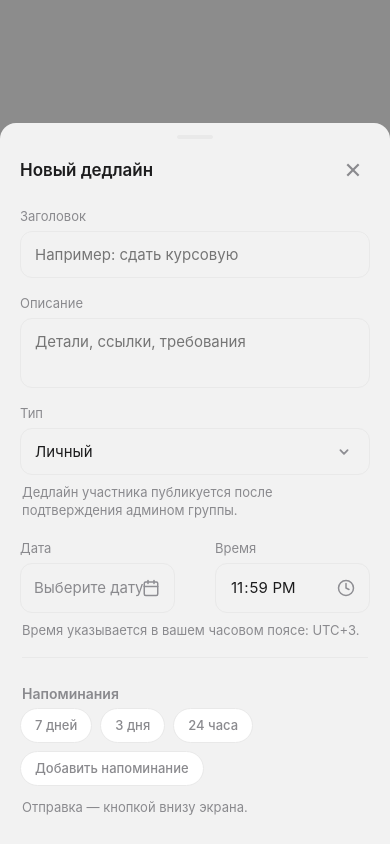
Test case: DeadlineSheet: группы и пресеты › снятие всех пресетов у группового дедлайна даёт ошибку про напоминания
Select "Групповой · М8О-401Б-23" in the dropdown with test id "field-group". click: (195, 452)
box: [20,428,370,476]
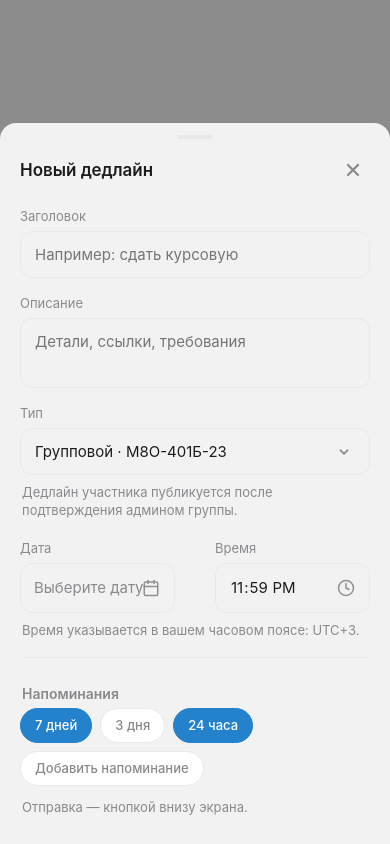
Expected: the button with test id "preset-10080" has attribute data-selected="true"
Click the button with test id "preset-10080". click: (56, 726)
box: [20,708,92,743]
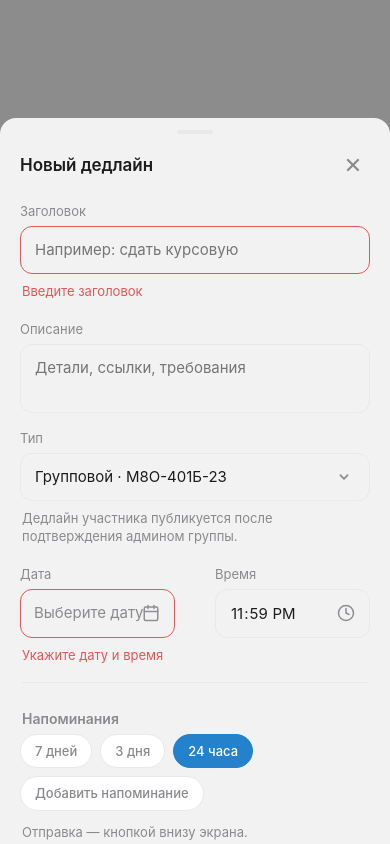
Click the button with test id "preset-1440". click: (213, 751)
box: [173,734,253,768]
(page scrolled)
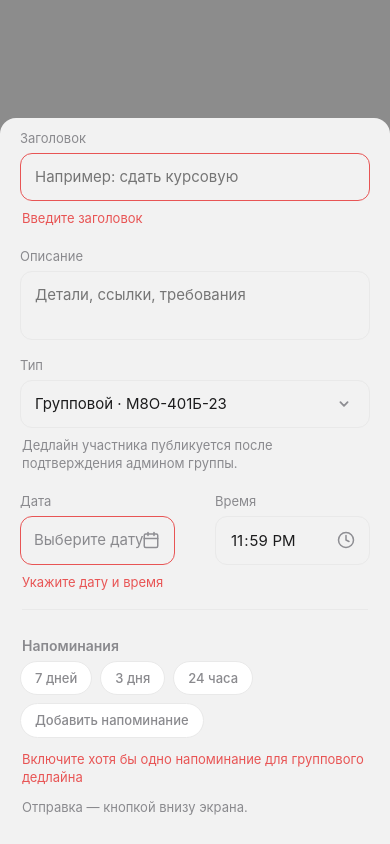
Expected: the message "Включите хотя бы одно напоминание для группового дедлайна" is shown, [6,746,384,794]
